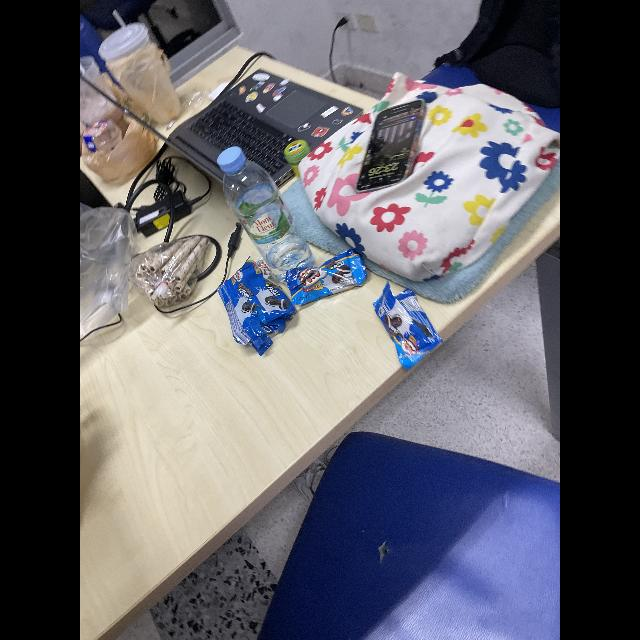plastic_bag: (80, 203, 144, 339), (112, 48, 186, 128), (80, 120, 162, 192)
plastic_bottle: (217, 143, 316, 273)
plastic_bottle_cap: (206, 138, 252, 190)
plastic_box: (80, 118, 128, 158)
plastic_cup: (80, 54, 132, 138)
plastic_cup_lid: (92, 15, 152, 64)
snack_bag: (130, 234, 214, 310), (371, 283, 444, 369), (218, 256, 272, 364), (283, 248, 369, 308), (232, 256, 292, 336)
straw: (107, 9, 127, 31)
